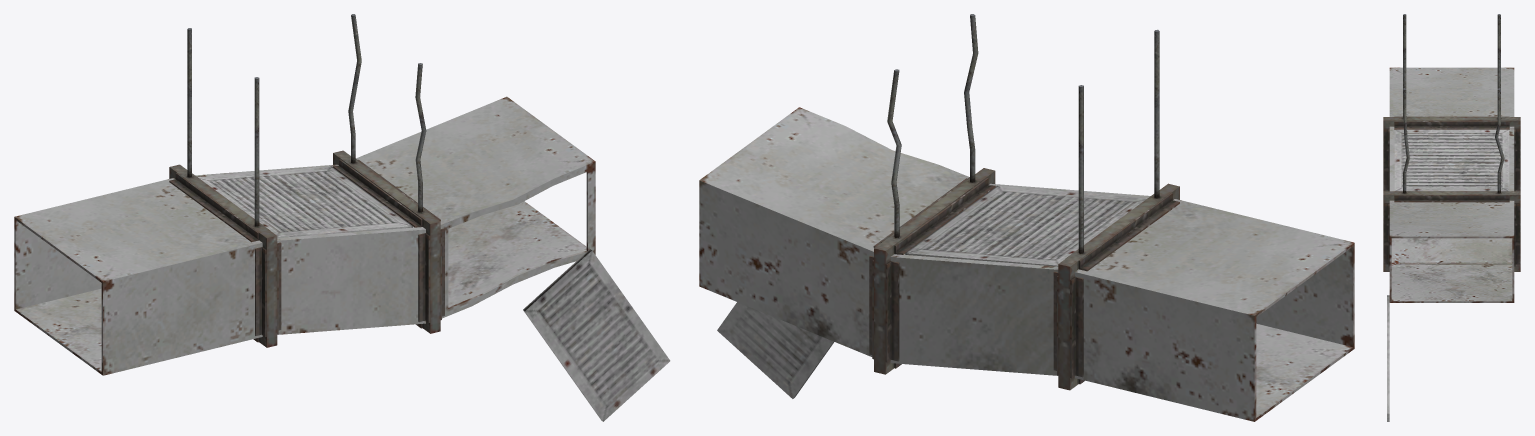
File: sm22_059_duct03a.fbx
3 renders of one model, left to right at view 1: azimuth 30°, elevation 25°; view 2: azimuth 150°, elevation 25°; view 3: azimuth 270°, elevation 25°, orthographic. The views are drawn at different scales.
Parts seen in each view (by area): view 1: LOD_1_Group_0_Sub_1__sm22_059_Duct03A_A_Mat__Env_default; view 2: LOD_1_Group_0_Sub_1__sm22_059_Duct03A_A_Mat__Env_default; view 3: LOD_1_Group_0_Sub_1__sm22_059_Duct03A_A_Mat__Env_default.
Part boxes in pixels (bbox=[...]): LOD_1_Group_0_Sub_1__sm22_059_Duct03A_A_Mat__Env_default: bbox=[14, 14, 670, 421]; LOD_1_Group_0_Sub_1__sm22_059_Duct03A_A_Mat__Env_default: bbox=[699, 14, 1354, 421]; LOD_1_Group_0_Sub_1__sm22_059_Duct03A_A_Mat__Env_default: bbox=[1383, 14, 1520, 421].
Size of the model in its own units: 4.1 by 2.88 by 1.22.
